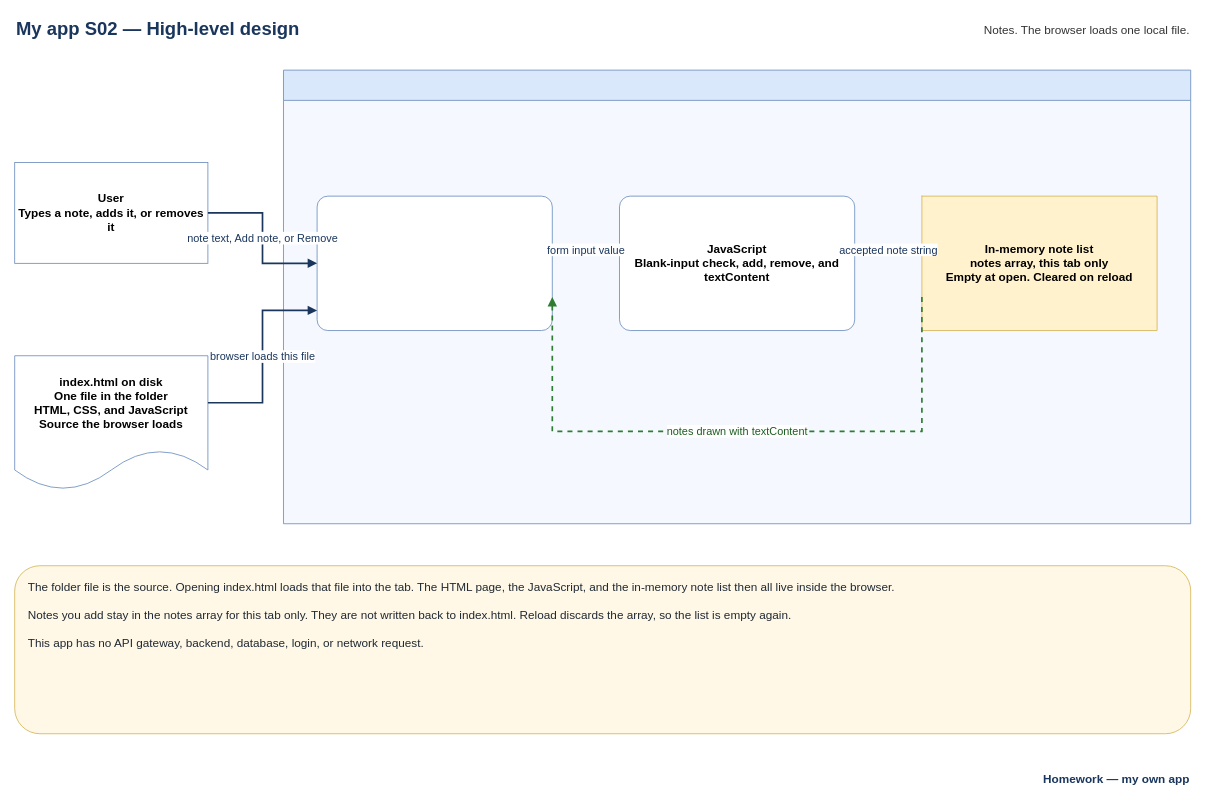
Image size: 1205x805. Some labels were removed from this diagram. The shapes that lost their labels are listed below. From the top down, each one's box as (x1, y1, x2, y2) in pixels, then its label:
(316, 195, 552, 331): HTML page Note field, Add note, Remove, and the notes list
(283, 69, 1191, 524): Browser tab
